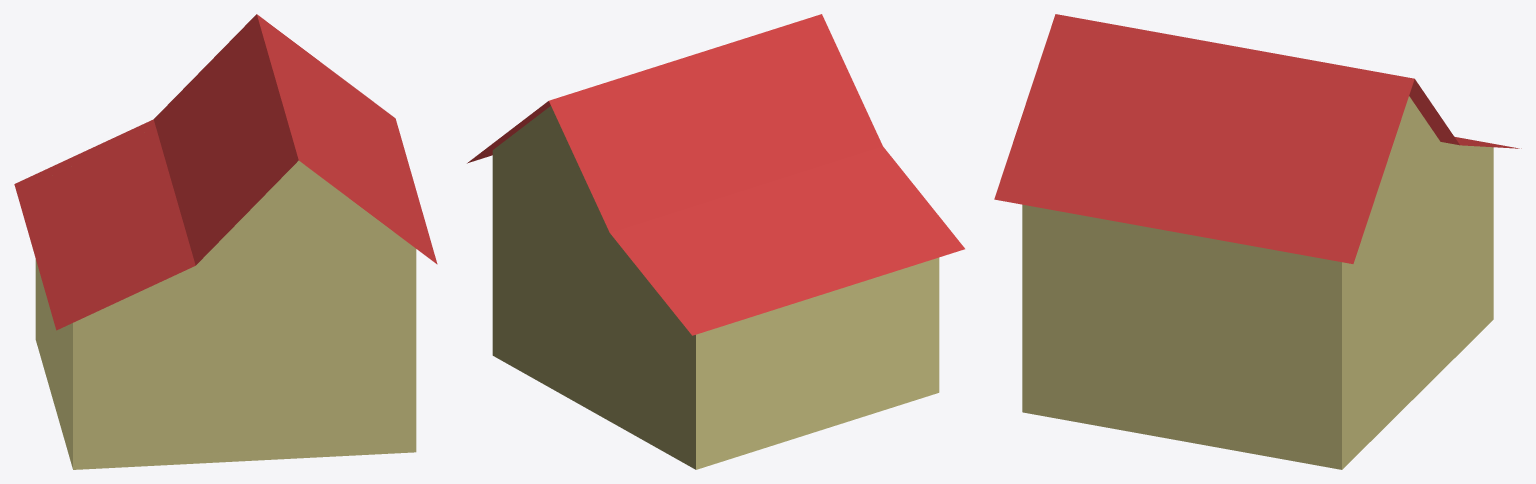
3 renders of one model, left to right at view 1: azimuth 30°, elevation 25°; view 2: azimuth 150°, elevation 25°; view 3: azimuth 270°, elevation 25°, orthographic. The views are drawn at different scales.
Size of the model in its own units: 19.17 by 18.44 by 13.2.
